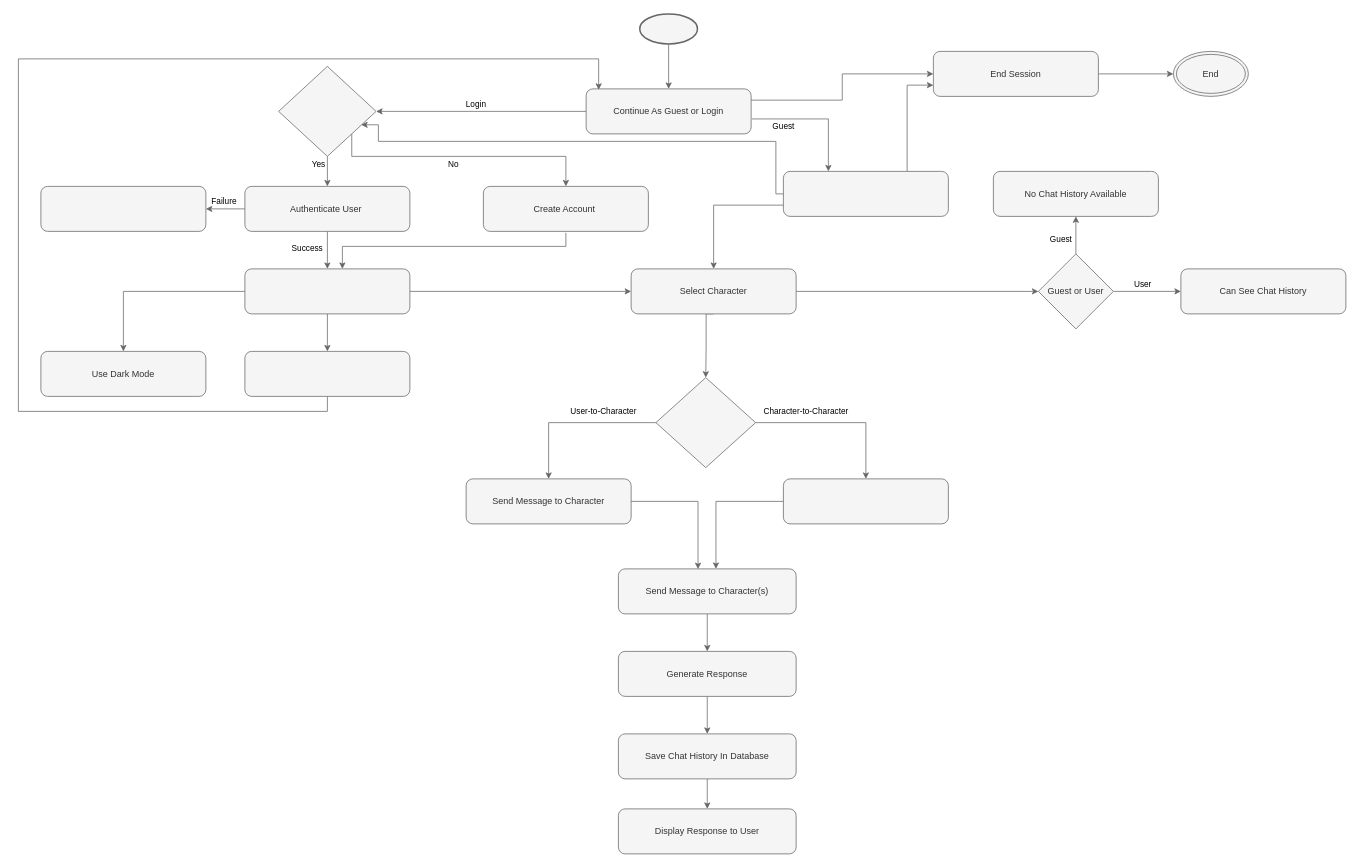
This 1359x867 diagram has some shape labels left out. Here are the shapes that lost their labels. From the top down, the box of each, then its label:
(639, 13, 698, 44): Start
(278, 66, 376, 156): Have Account?
(40, 186, 206, 231): Show Login Error
(783, 171, 948, 216): Guest Mode
(244, 268, 410, 314): Go to Main Page
(244, 351, 410, 396): Log Out
(655, 377, 756, 468): Chat Type
(783, 478, 948, 524): Select 2 Characters for Interaction
